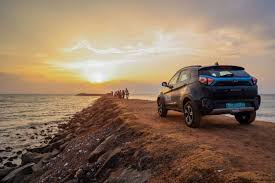Tata Nexon: (157, 61, 262, 130)
